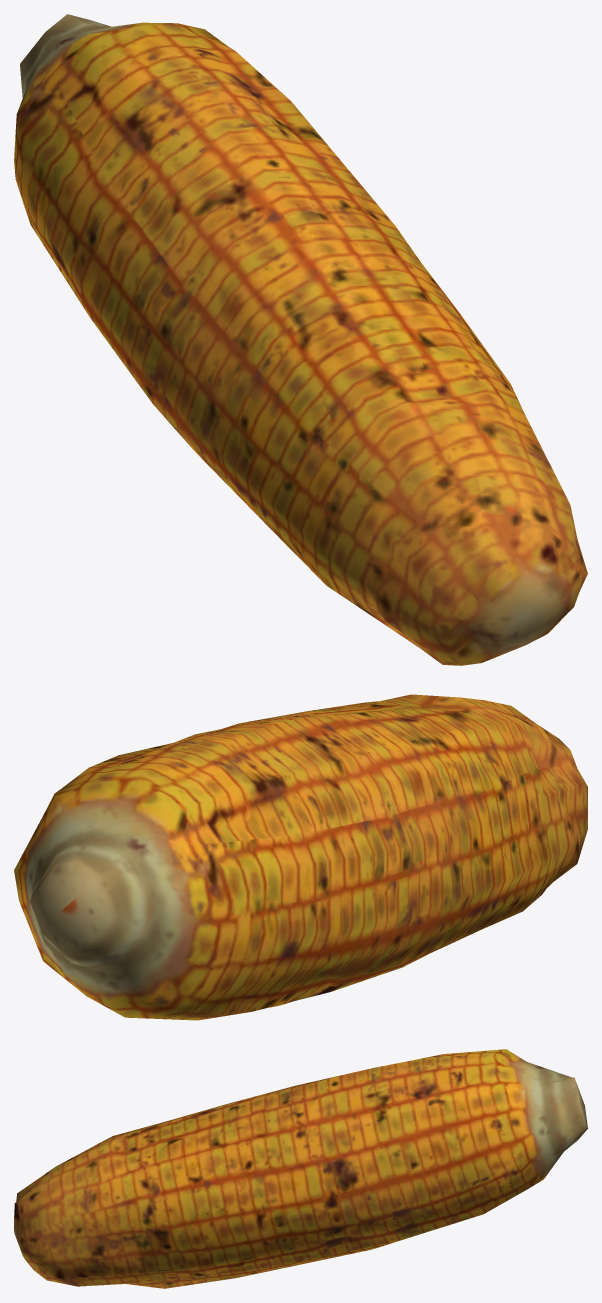
The model's file is GrilledCorn.obj.
3 views of the same model, one above another, from view 1: azimuth 30°, elevation 25°; view 2: azimuth 150°, elevation 25°; view 3: azimuth 270°, elevation 25° (orthographic). The views are drawn at different scales.
Parts seen in each view (by area): view 1: corn_merge_low001_grilled_corn_0(Clone)_Quality_35; view 2: corn_merge_low001_grilled_corn_0(Clone)_Quality_35; view 3: corn_merge_low001_grilled_corn_0(Clone)_Quality_35.
Boxes of the visible parts, x1,y1,x2,y2 form: corn_merge_low001_grilled_corn_0(Clone)_Quality_35: (14,14,587,665); corn_merge_low001_grilled_corn_0(Clone)_Quality_35: (14,694,587,1020); corn_merge_low001_grilled_corn_0(Clone)_Quality_35: (14,1049,587,1288).
Bounding box in the file's own units: 0.7597 × 1.05 × 2.39.
